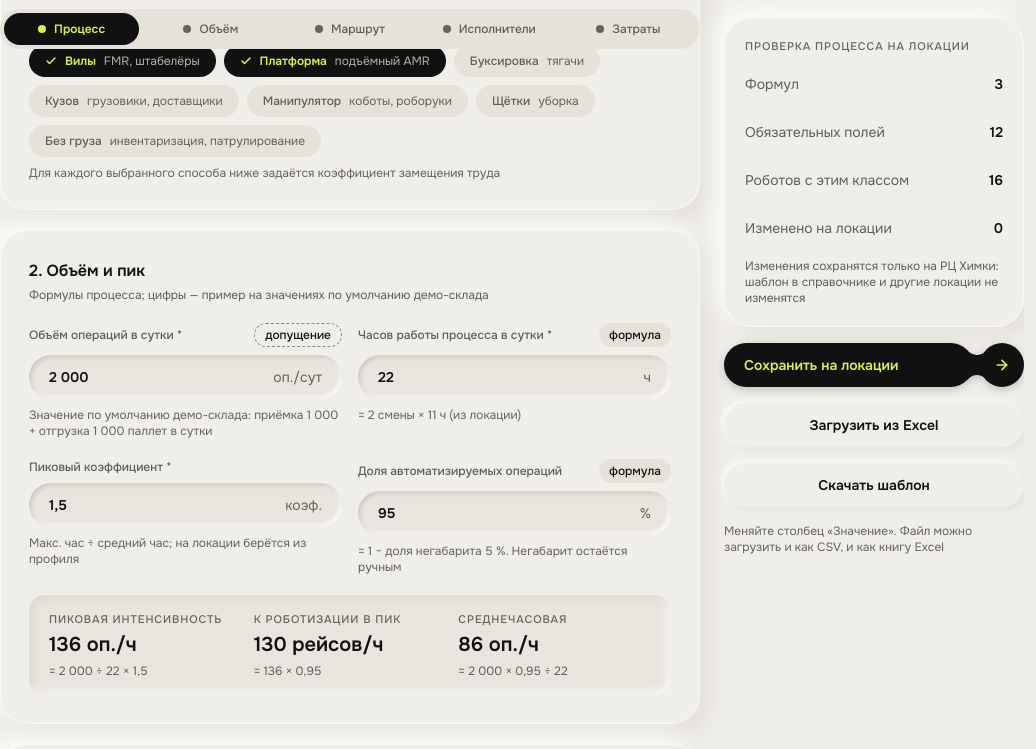
LocationProcessPage (экран 16) › keeps the form and the draft when validation fails
The width and height of the screenshot is (1036, 749).
(page scrolled)
Clear the field labelled "Объём операций в сутки *": point(157, 377) [49, 367, 265, 387]
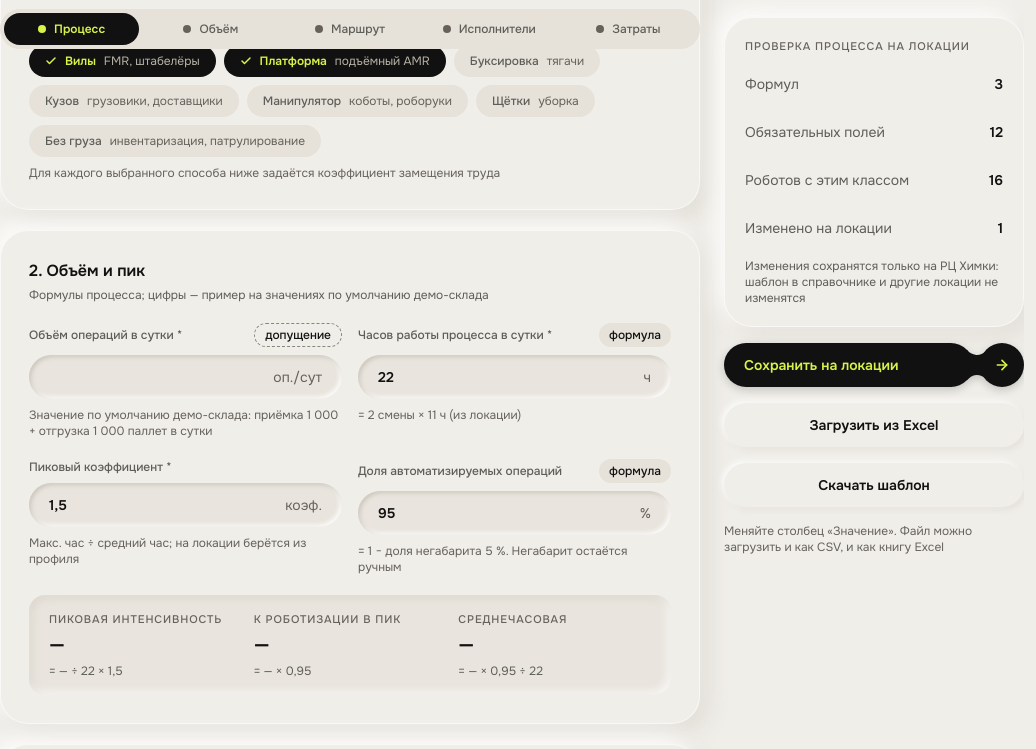
Click the button "Сохранить на локации": point(874, 365) [724, 343, 1024, 387]
(page scrolled)
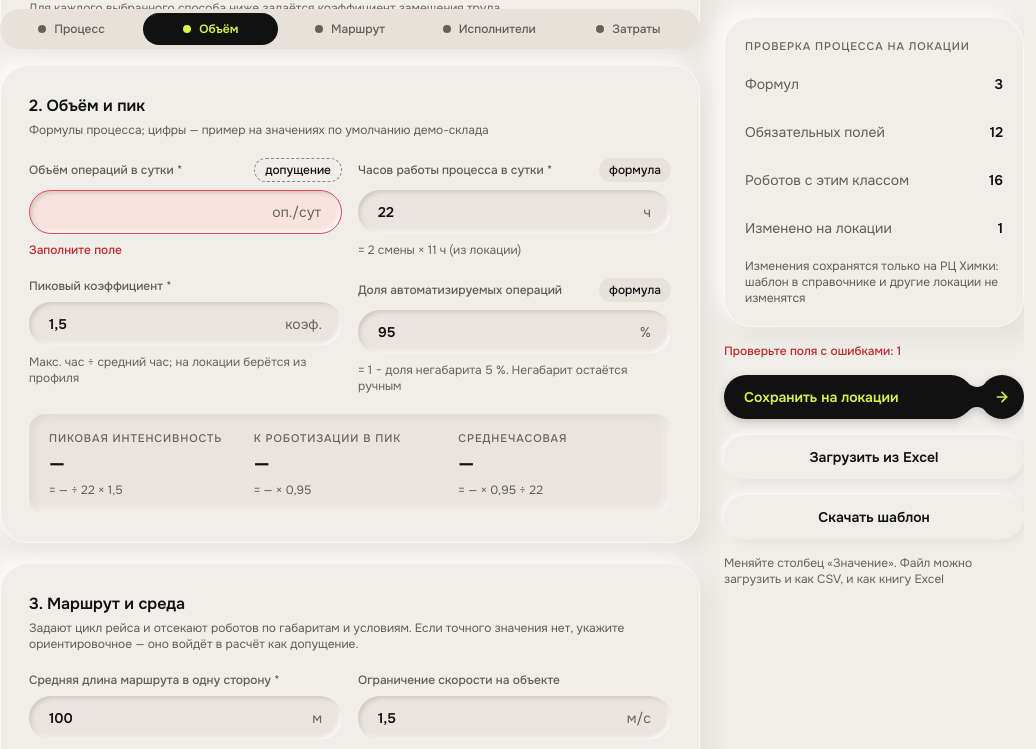
Now the message reads "Проверьте поля с ошибками: 1", box [724, 343, 901, 359]
